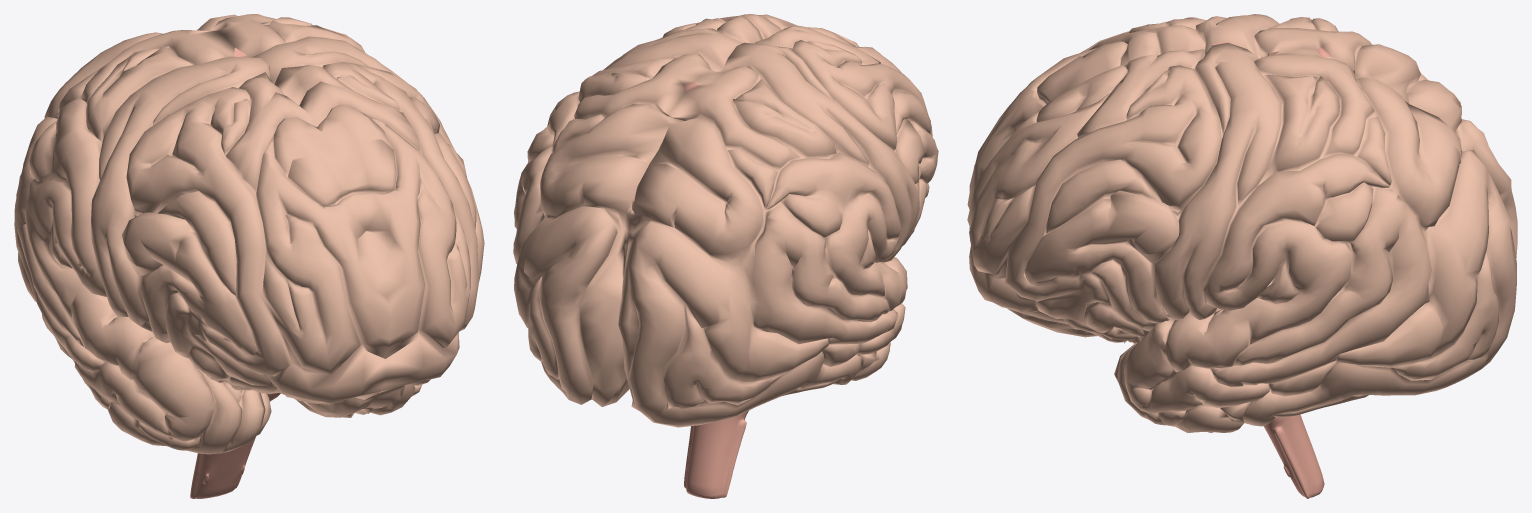
The model's file is Brain1.gltf.
3 renders of one model, left to right at view 1: azimuth 30°, elevation 25°; view 2: azimuth 150°, elevation 25°; view 3: azimuth 270°, elevation 25°, orthographic. The views are drawn at different scales.
Parts seen in each view (by area): view 1: Brain.001; view 2: Brain.001; view 3: Brain.001.
Boxes of the visible parts, x1,y1,x2,y2 form: Brain.001: (14,14,484,498); Brain.001: (513,14,938,498); Brain.001: (967,14,1517,498).
Size of the model in its own units: 1.27 by 1.54 by 1.69.
